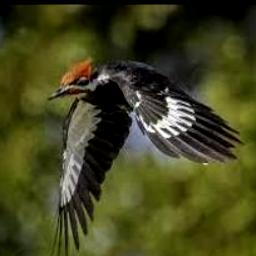Woodpecker: (48, 56, 245, 256)
